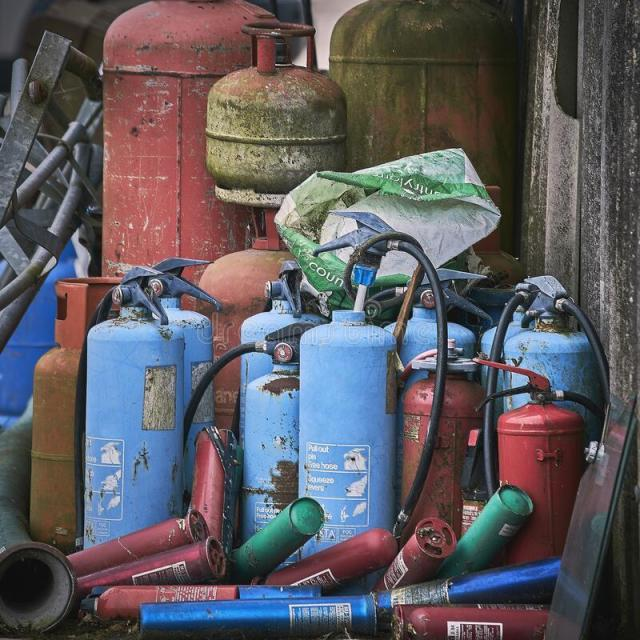fire_extinguisher: (290, 203, 452, 582), (170, 310, 352, 573), (482, 267, 619, 572), (75, 261, 195, 589), (105, 254, 226, 578), (466, 352, 602, 618), (240, 257, 348, 568), (374, 258, 488, 544), (390, 337, 500, 586), (368, 546, 625, 620), (34, 504, 222, 603), (414, 476, 541, 604), (247, 518, 412, 611), (199, 490, 331, 600), (125, 587, 384, 639), (350, 507, 465, 621), (52, 534, 234, 604), (379, 595, 596, 639), (70, 578, 248, 624)
